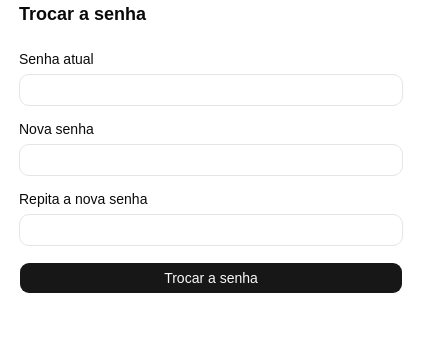
it: ChangePasswordPage › refuses a new password shorter than the API accepts, without asking the API
Type "old-secret" into the password field labelled "Senha atual" at point(211, 90), box [19,74,403,106]
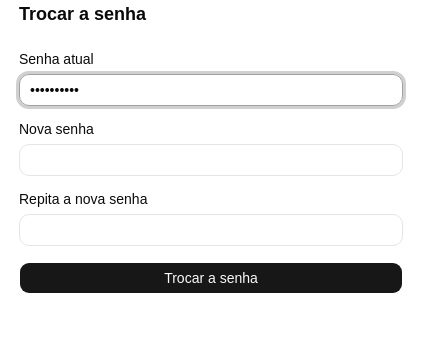
Type "short" into the password field labelled "Nova senha" at point(211, 160), box [19,144,403,176]
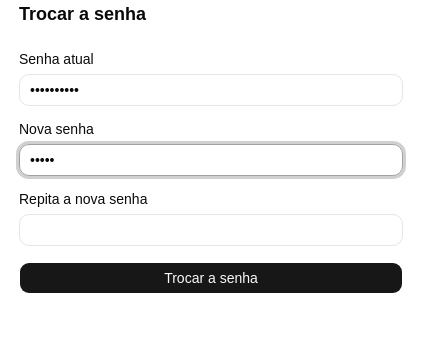
Type "short" into the password field labelled "Repita a nova senha" at point(211, 230), box [19,214,403,246]
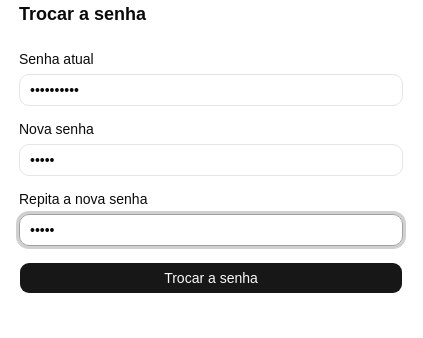
Click the button "Trocar a senha" at point(211, 278), box [19,262,403,294]
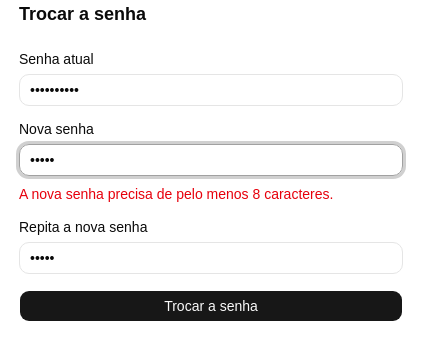
Expected: the text "A nova senha precisa de pelo menos 8 caracteres." is shown, [19,186,333,202]
